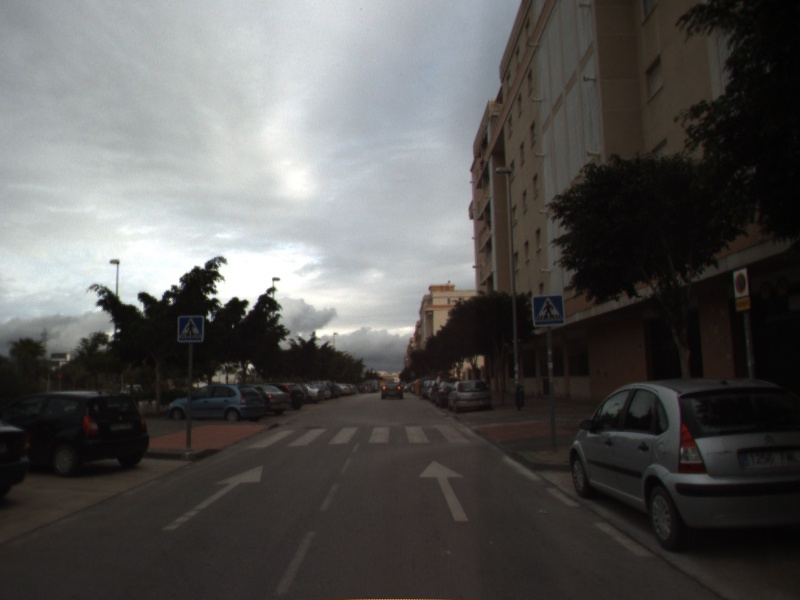STRAIGHT: (160, 463, 265, 532), (417, 458, 471, 523)
